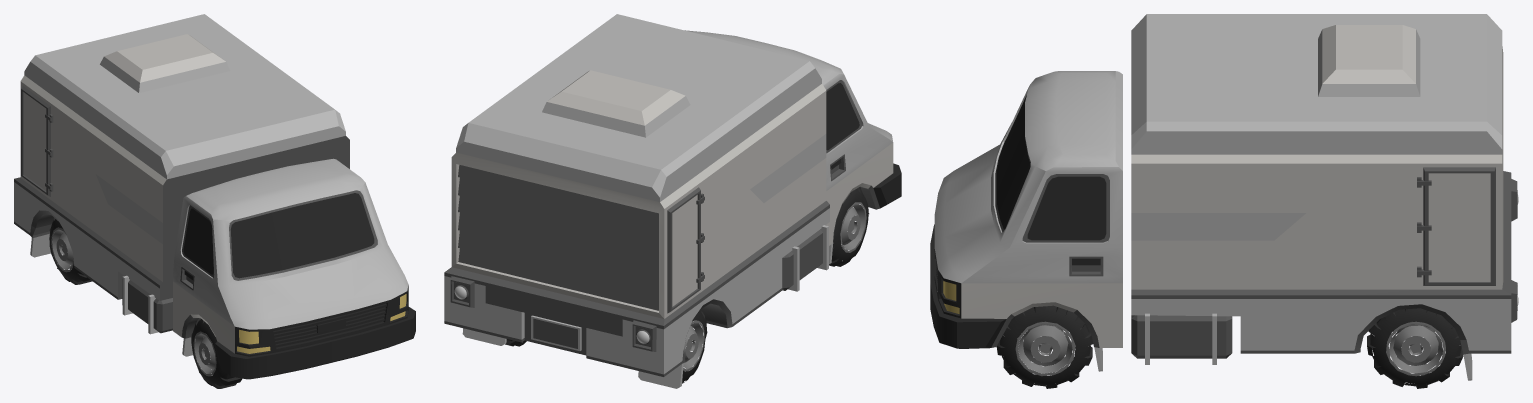
The model's file is veiculo_camiao.glb.
The picture shows the model from 3 angles, left to right: view 1: azimuth 30°, elevation 25°; view 2: azimuth 150°, elevation 25°; view 3: azimuth 270°, elevation 25°; orthographic projection. The views are drawn at different scales.
Visible parts, largest first — view 1: Truck, FrontWheel_R, BackWheels; view 2: Truck, FrontWheel_R, BackWheels; view 3: Truck, FrontWheel_L, BackWheels.
Boxes of the visible parts, x1,y1,x2,y2 form: Truck: (14,14,415,379); FrontWheel_R: (191,318,241,388); BackWheels: (49,218,92,284); Truck: (444,14,901,388); FrontWheel_R: (829,187,869,266); BackWheels: (505,310,707,383); Truck: (930,14,1518,380); FrontWheel_L: (996,305,1093,388); BackWheels: (1367,308,1463,388).
Size of the model in its own units: 3.2 by 3.4 by 6.2.
3 materials, 1 textured.
